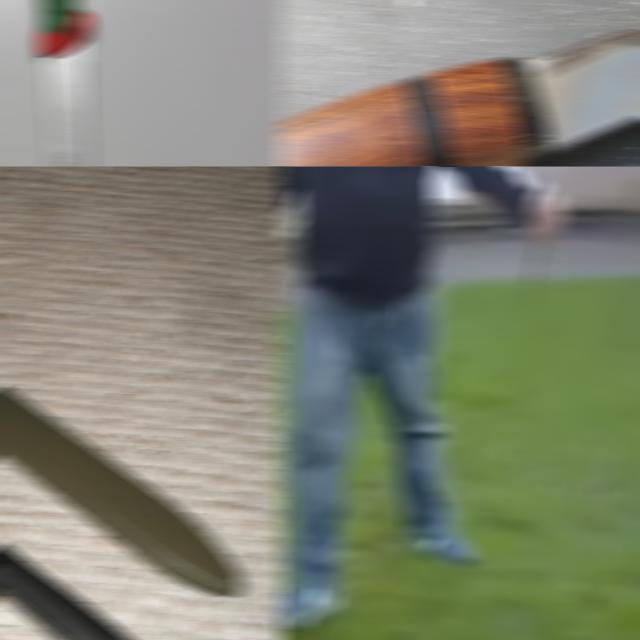Knife: (36, 0, 94, 166)
Knife_Handle: (522, 181, 568, 293)
